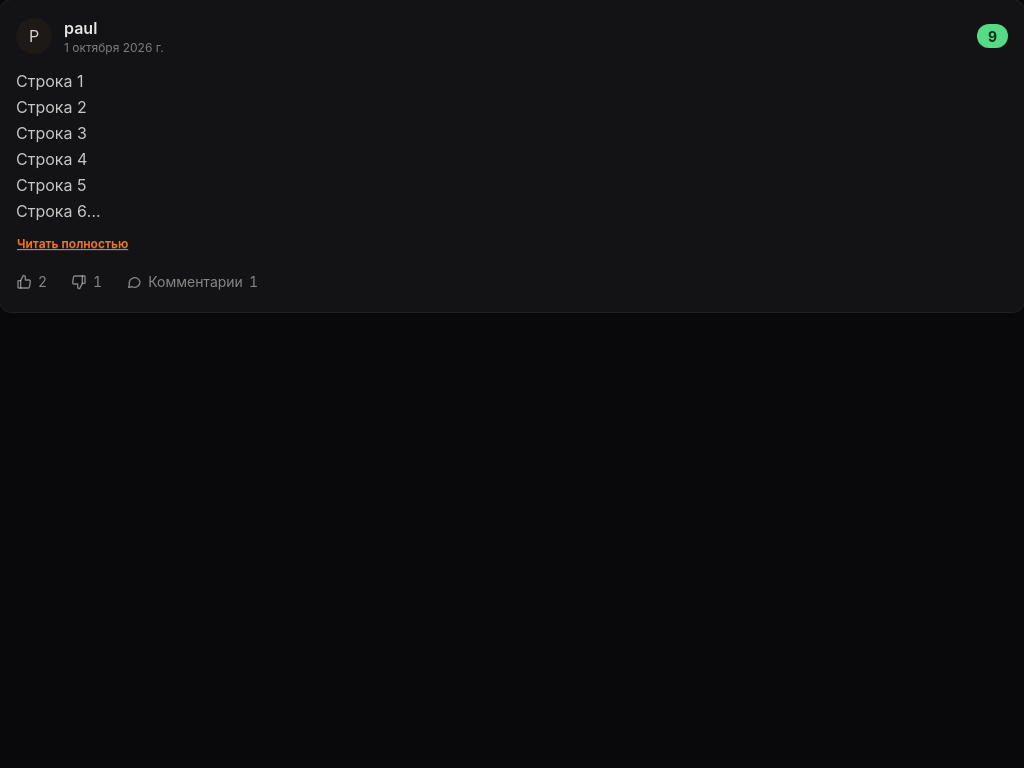
Test: ReviewCard › длинный текст свёрнут, «Читать полностью» разворачивает
Click the button "Читать полностью": (73, 244) [16, 228, 129, 260]
(page scrolled)
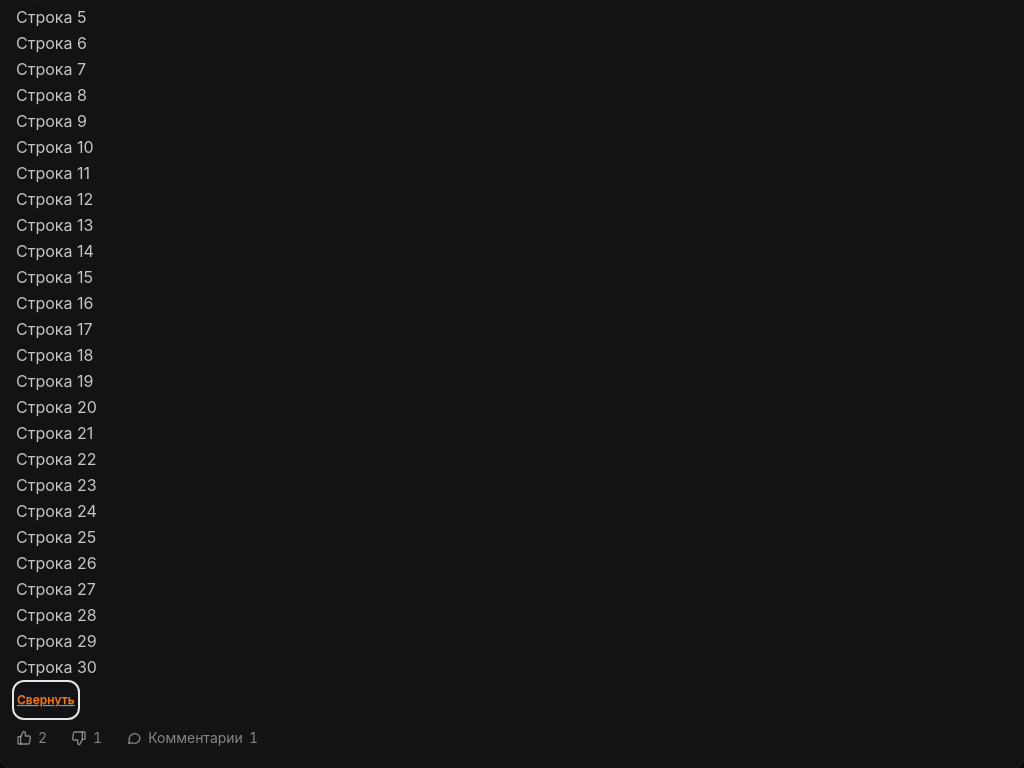
Result: the button "Свернуть" is expanded at [16, 684, 76, 716]
